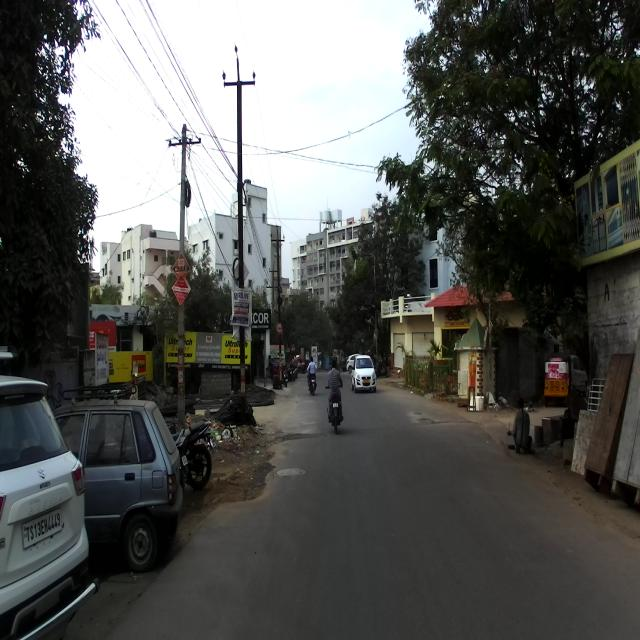car ahead at: (74, 404, 185, 577)
electric pole ahead at: (218, 30, 267, 426)
